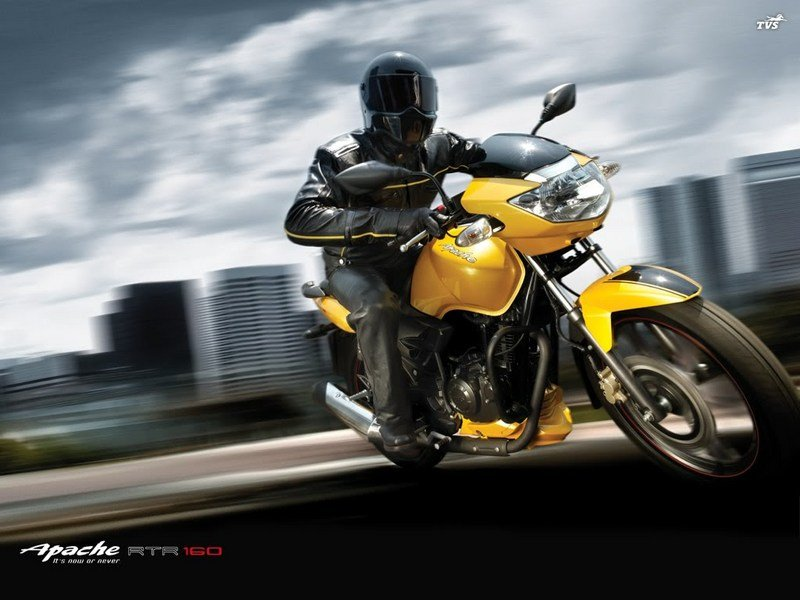helmet: (357, 56, 444, 148)
